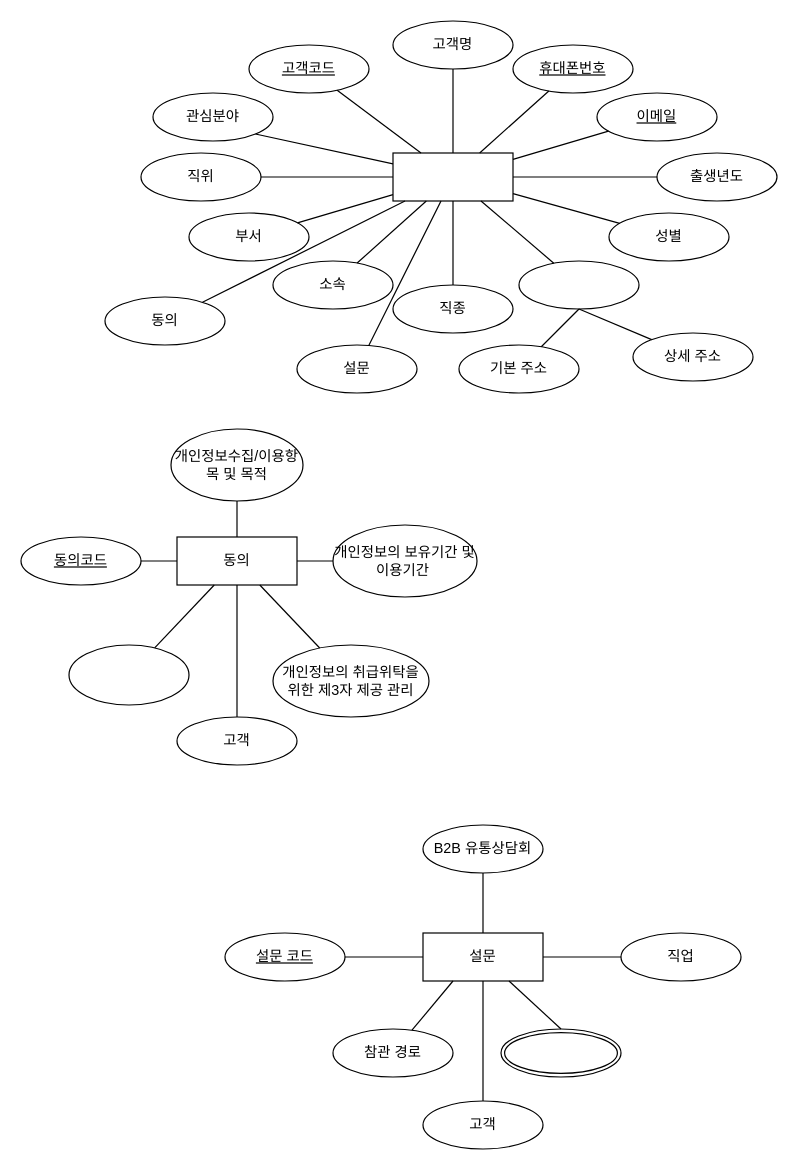
This 798x1170 diagram has some shape labels left out. The shapes that lost their labels are listed below. From the top down, each one's centre as x and y in pixels, then its label:
[452,176]: 참관객
[578,284]: 거주지역
[128,674]: 마케팅 정보 수신동의
[560,1052]: 주 참관목적
